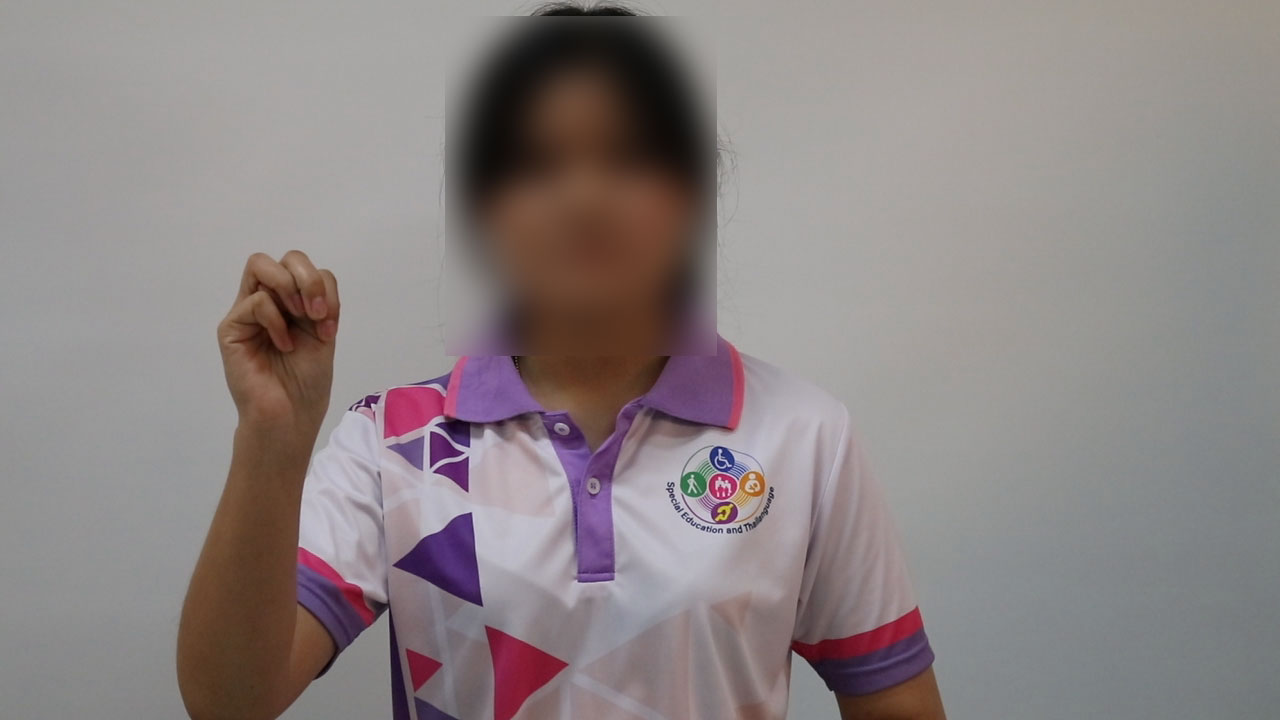mor: (203, 225, 369, 469)
